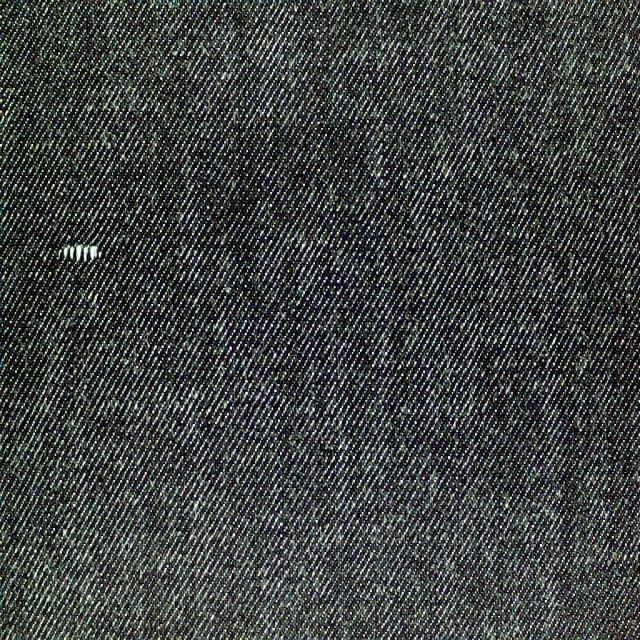pulled_or_thick_thread: (60, 239, 101, 265)
